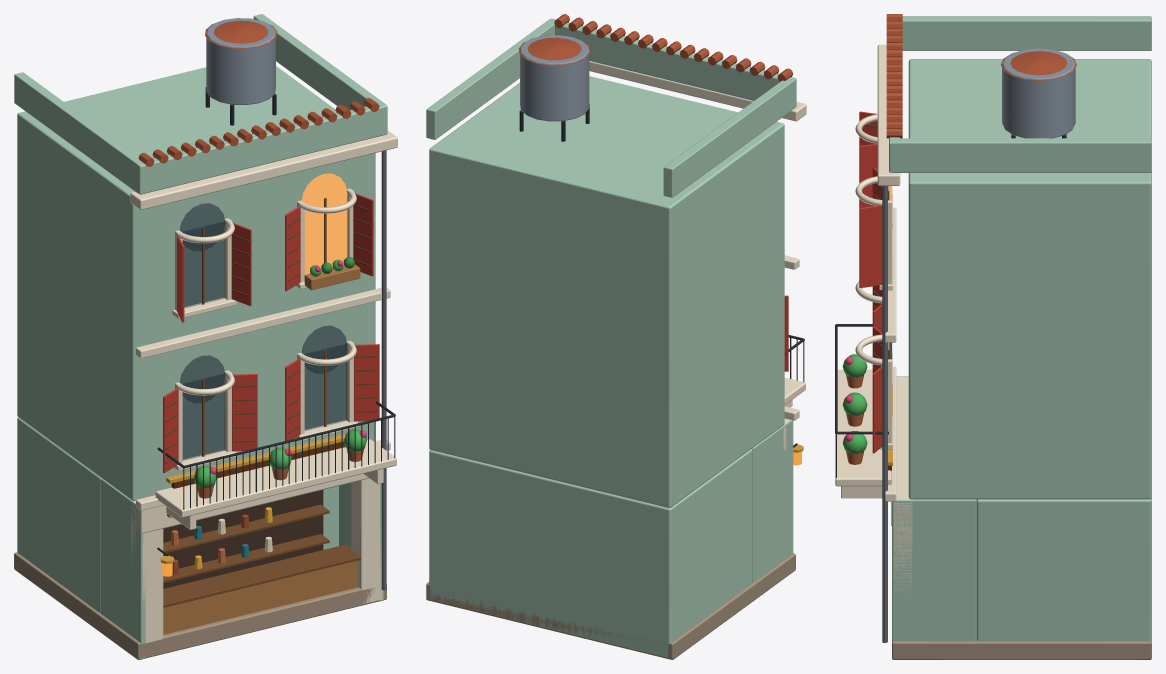
The model's file is mk_house_d.glb.
3 renders of one model, left to right at view 1: azimuth 30°, elevation 25°; view 2: azimuth 150°, elevation 25°; view 3: azimuth 270°, elevation 25°, orthographic. The views are drawn at different scales.
Parts seen in each view (by area): view 1: mk_house_d_body; view 2: mk_house_d_body; view 3: mk_house_d_body.
Boxes of the visible parts, box(x1,y1,x2,y2) form: mk_house_d_body: box(14, 14, 397, 659); mk_house_d_body: box(426, 14, 806, 659); mk_house_d_body: box(835, 14, 1151, 659).
Size of the model in its own units: 5.5 by 10.97 by 5.61.
